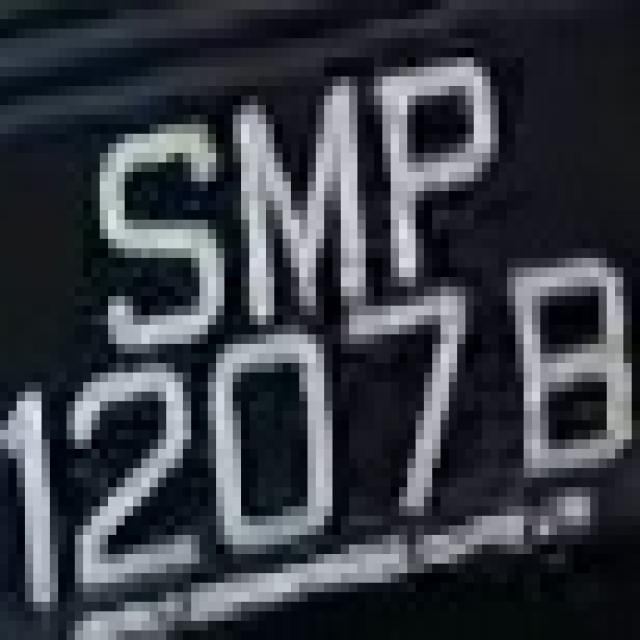0: (191, 344, 341, 602)
1: (0, 5, 1, 10)
2: (66, 334, 208, 612)
7: (332, 258, 474, 544)
B: (6, 4, 8, 8)
M: (200, 57, 382, 306)
P: (357, 28, 507, 286)
S: (67, 105, 216, 392)
